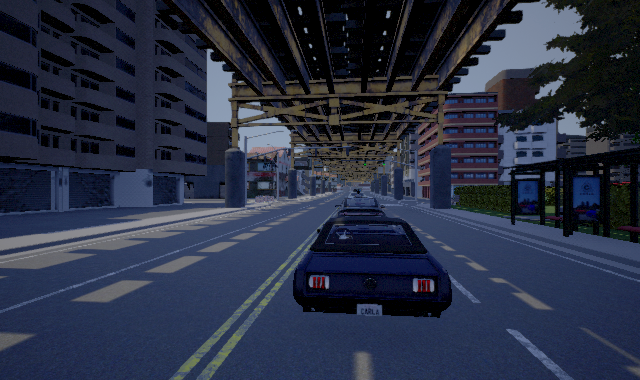traffic_light: (364, 160, 366, 166), (383, 160, 385, 165)
vehicle: (293, 189, 452, 318)
